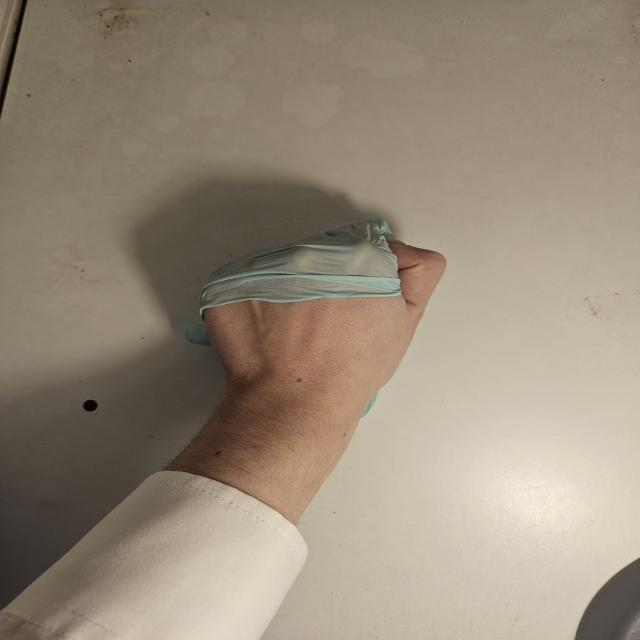glove_partial: (183, 214, 450, 419)
